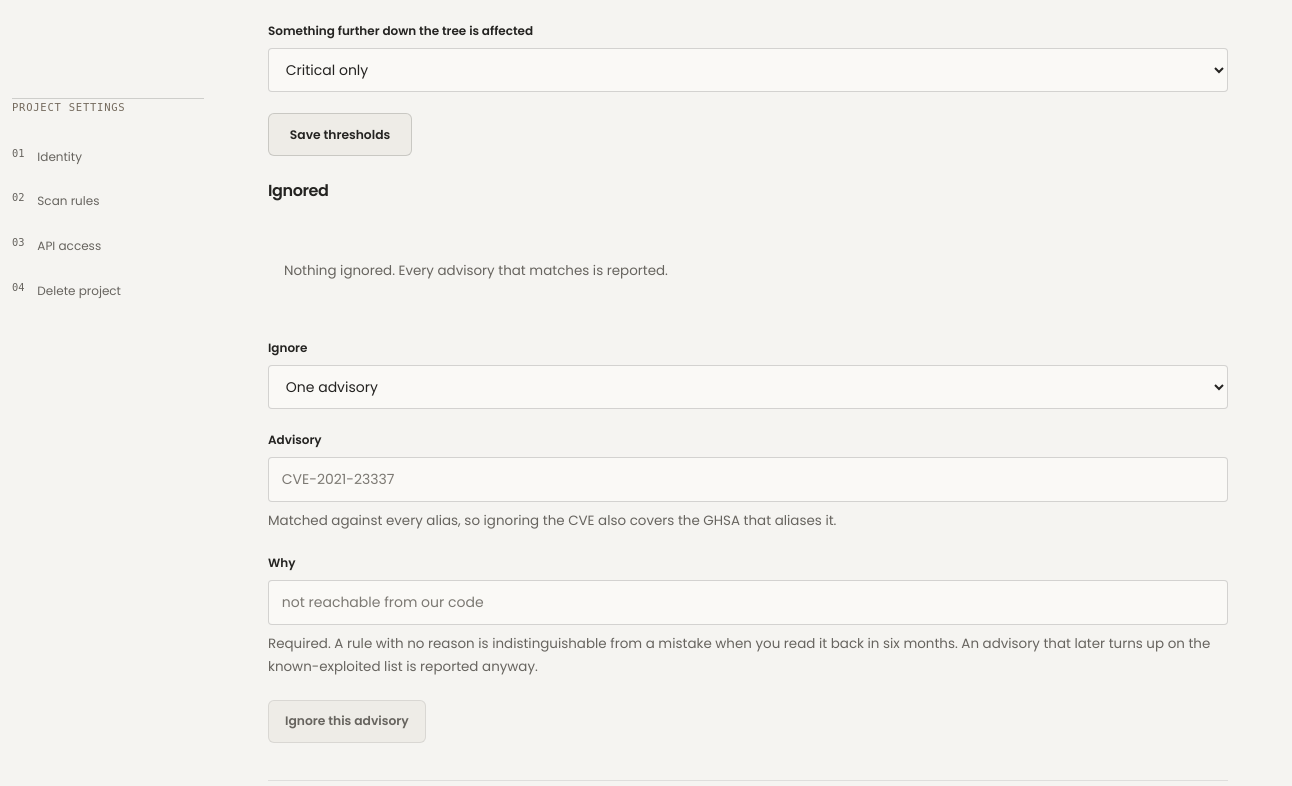
Test case: choosing what an ignore rule names › relabels the field and the button for a package rule
(page scrolled)
Select "A package, or a family of them" in the dropdown labelled "Ignore" at (748, 387), box [268, 364, 1228, 409]
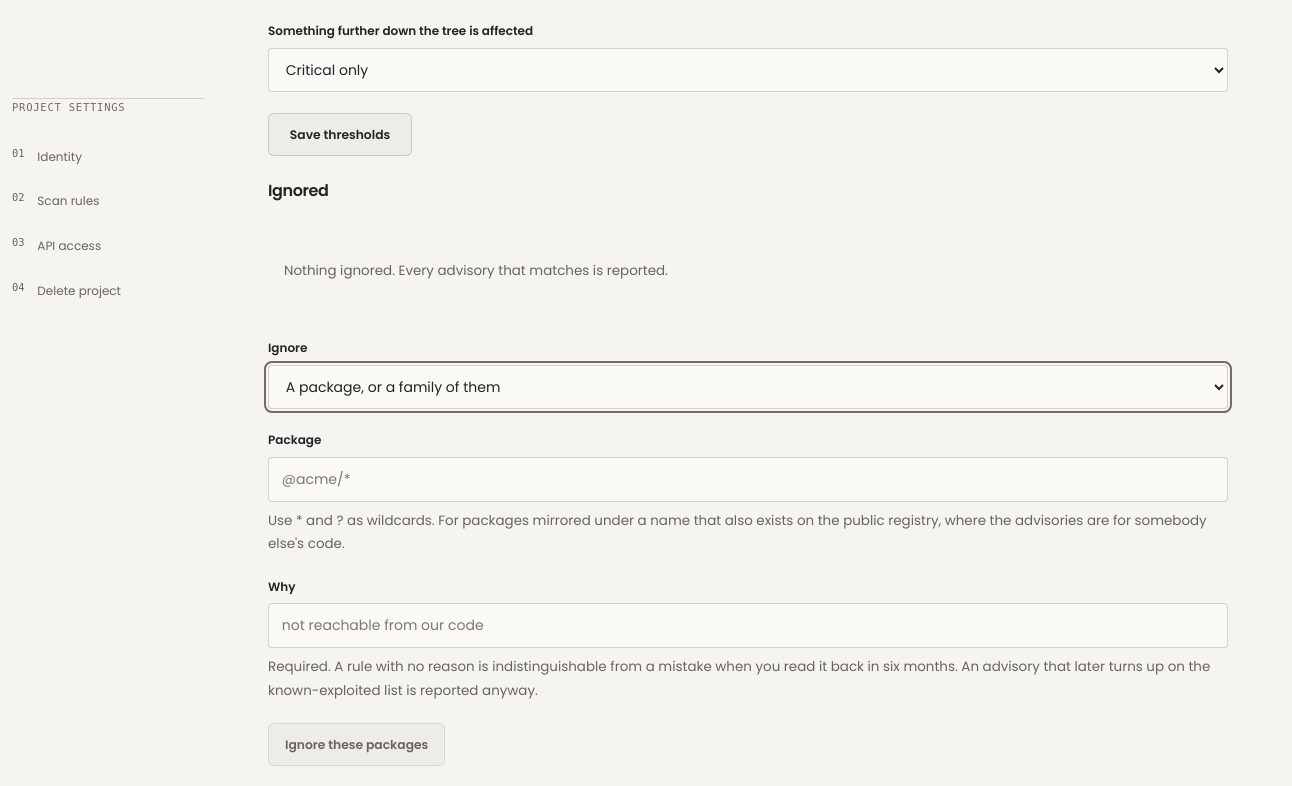
Check: the button "Ignore these packages" is shown, box [268, 723, 445, 766]
